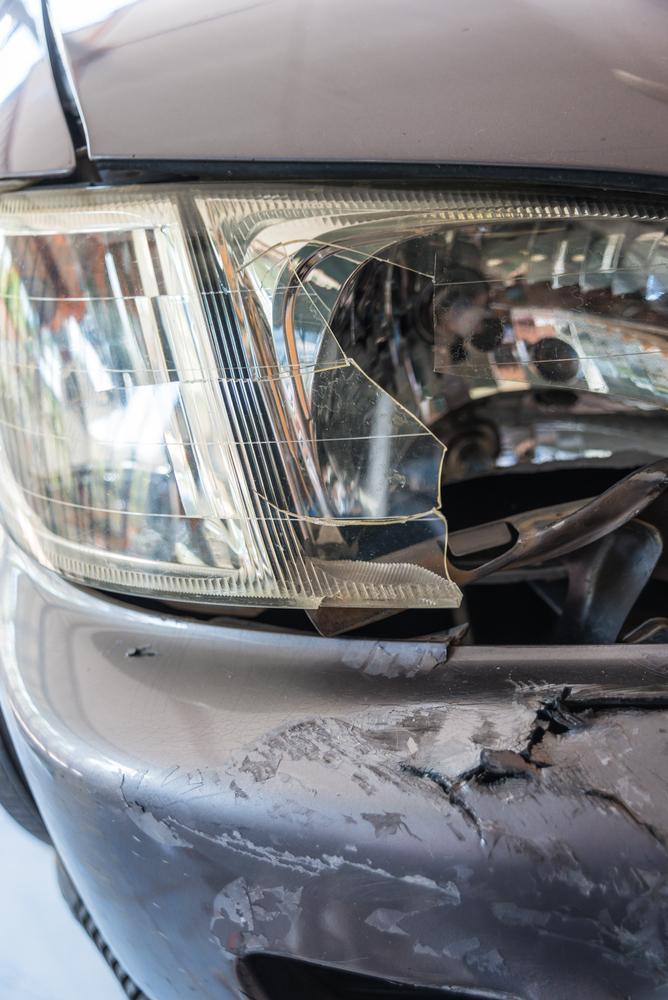crack: (402, 682, 668, 842)
lamp broken: (0, 177, 668, 641)
scratch: (109, 646, 668, 1000)
